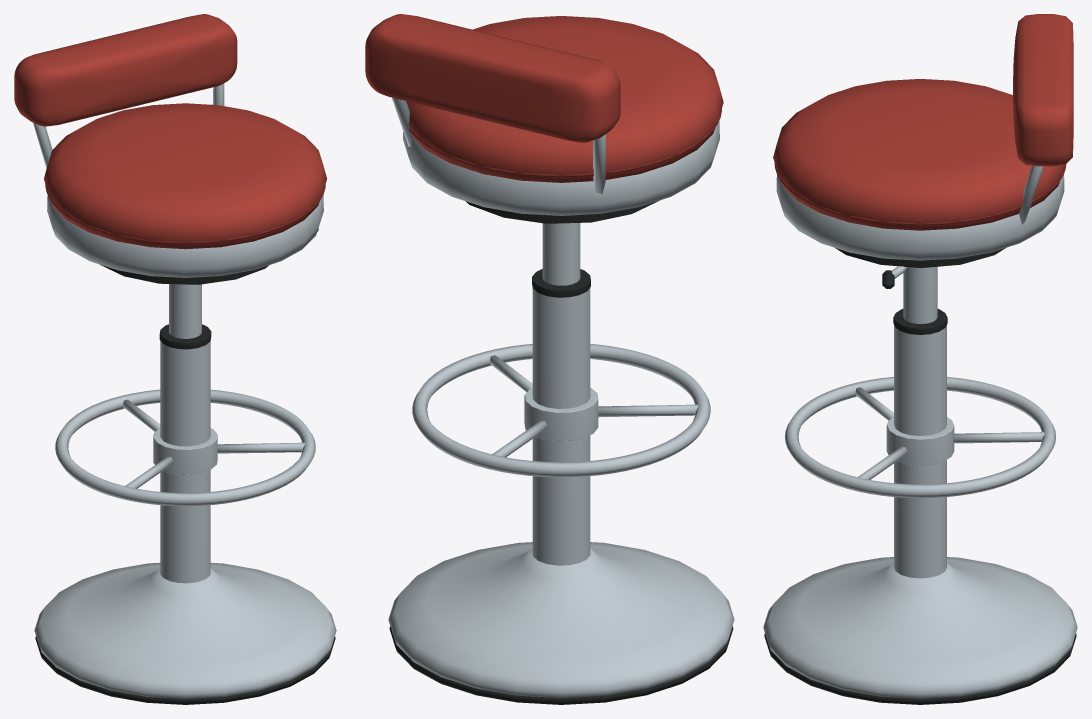
The model's file is S029_swivel_bar_stool_rebuilt.glb.
3 views of the same model, side by side, from view 1: azimuth 30°, elevation 25°; view 2: azimuth 150°, elevation 25°; view 3: azimuth 270°, elevation 25° (orthographic). The views are drawn at different scales.
Visible parts, largest first — view 1: Stool_bright_satin_chrome, Stool_vintage_red_vinyl, Stool_rubber_base_protection, Stool_red_vinyl_welting; view 2: Stool_bright_satin_chrome, Stool_vintage_red_vinyl, Stool_rubber_base_protection, Stool_red_vinyl_welting; view 3: Stool_bright_satin_chrome, Stool_vintage_red_vinyl, Stool_rubber_base_protection, Stool_red_vinyl_welting.
Part boxes in pixels (bbox=[...]): Stool_bright_satin_chrome: bbox=[33, 83, 336, 698]; Stool_vintage_red_vinyl: bbox=[14, 14, 326, 249]; Stool_rubber_base_protection: bbox=[35, 228, 335, 704]; Stool_red_vinyl_welting: bbox=[45, 184, 325, 243]; Stool_bright_satin_chrome: bbox=[388, 97, 734, 697]; Stool_vintage_red_vinyl: bbox=[365, 14, 723, 182]; Stool_rubber_base_protection: bbox=[389, 200, 733, 704]; Stool_red_vinyl_welting: bbox=[409, 109, 721, 177]; Stool_bright_satin_chrome: bbox=[763, 165, 1077, 698]; Stool_vintage_red_vinyl: bbox=[773, 14, 1073, 230]; Stool_rubber_base_protection: bbox=[764, 248, 1076, 704]; Stool_red_vinyl_welting: bbox=[774, 163, 1066, 225].
Size of the model in its own units: 0.64 by 1.3 by 0.64.
